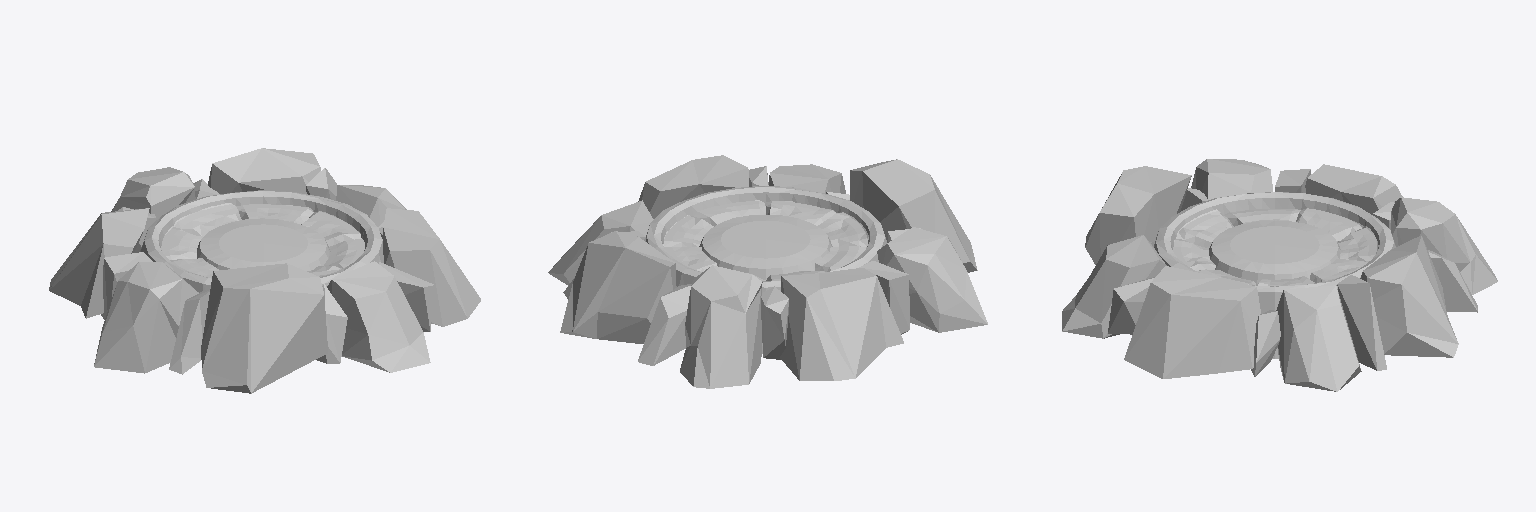
The model's file is pedestal.obj.
The picture shows the model from 3 angles: view 1: azimuth 30°, elevation 25°; view 2: azimuth 150°, elevation 25°; view 3: azimuth 270°, elevation 25°; orthographic projection.
Visible parts, largest first — view 1: Rocks_Rocks_MAT_0_Rocks_Rocks_MAT_0.001, Base_Base_MAT_0_Base_Base_MAT_0.001; view 2: Rocks_Rocks_MAT_0_Rocks_Rocks_MAT_0.001, Base_Base_MAT_0_Base_Base_MAT_0.001; view 3: Rocks_Rocks_MAT_0_Rocks_Rocks_MAT_0.001, Base_Base_MAT_0_Base_Base_MAT_0.001.
Boxes of the visible parts, <box> form: Rocks_Rocks_MAT_0_Rocks_Rocks_MAT_0.001: <box>49,148,480,393</box>; Base_Base_MAT_0_Base_Base_MAT_0.001: <box>140,190,383,292</box>; Rocks_Rocks_MAT_0_Rocks_Rocks_MAT_0.001: <box>548,155,987,388</box>; Base_Base_MAT_0_Base_Base_MAT_0.001: <box>646,186,886,353</box>; Rocks_Rocks_MAT_0_Rocks_Rocks_MAT_0.001: <box>1062,159,1497,391</box>; Base_Base_MAT_0_Base_Base_MAT_0.001: <box>1154,192,1395,358</box>.
Size of the model in its own units: 276 by 67.66 by 273.